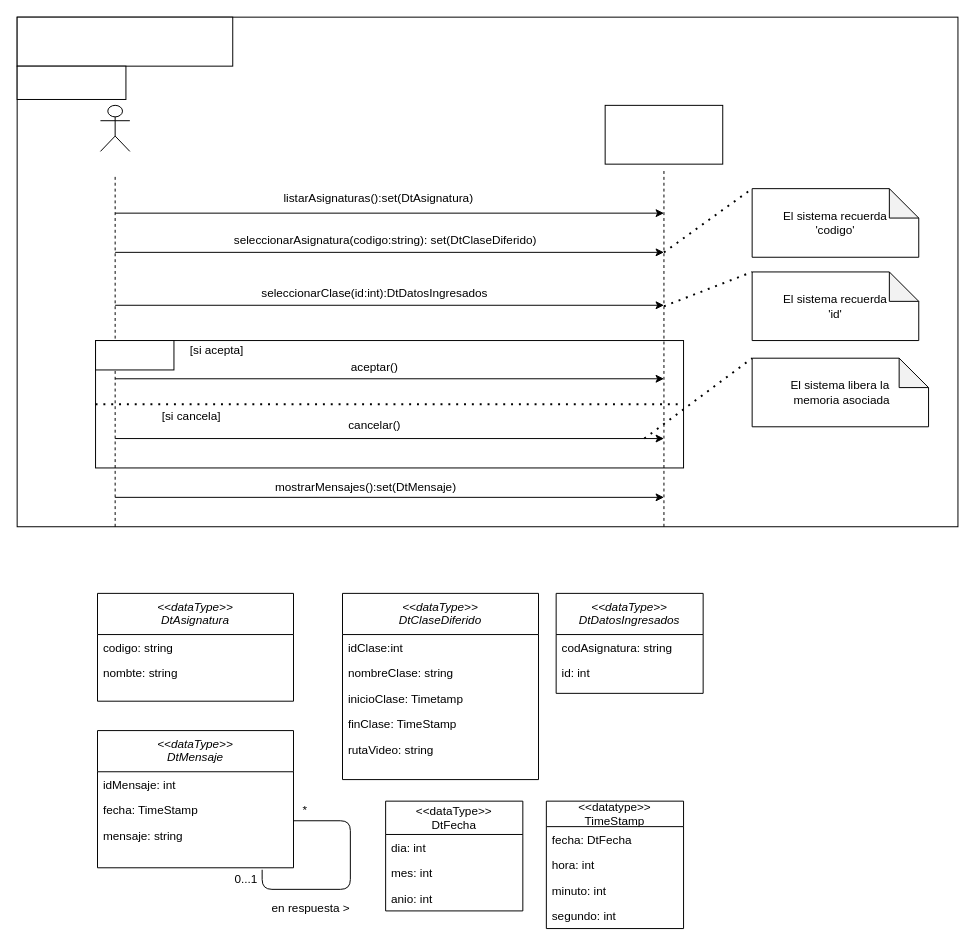
Some shapes in this 975 by 949 pixel diagram are drawn without their labels. Each missing label, with the box of its shape:
:Sistema: (604, 104, 723, 164)
alt: (95, 340, 174, 370)
Con memoria: (16, 65, 126, 99)
Estudiante: (99, 104, 130, 151)
Reproducción Clase Diferido: (16, 16, 233, 66)
